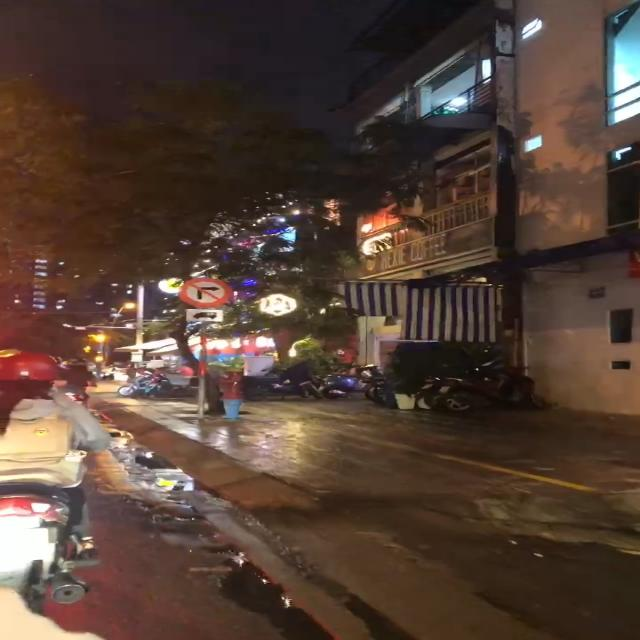Bien bao cam re phai: (172, 276, 231, 310)
